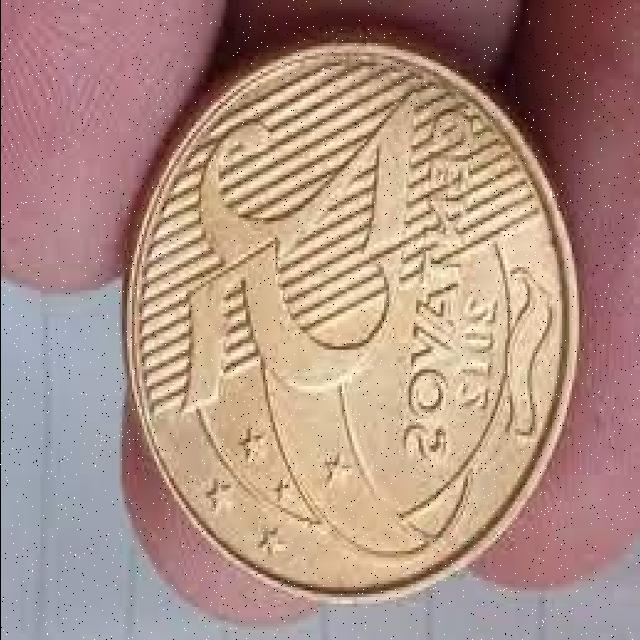25 cent: (121, 51, 574, 600)
